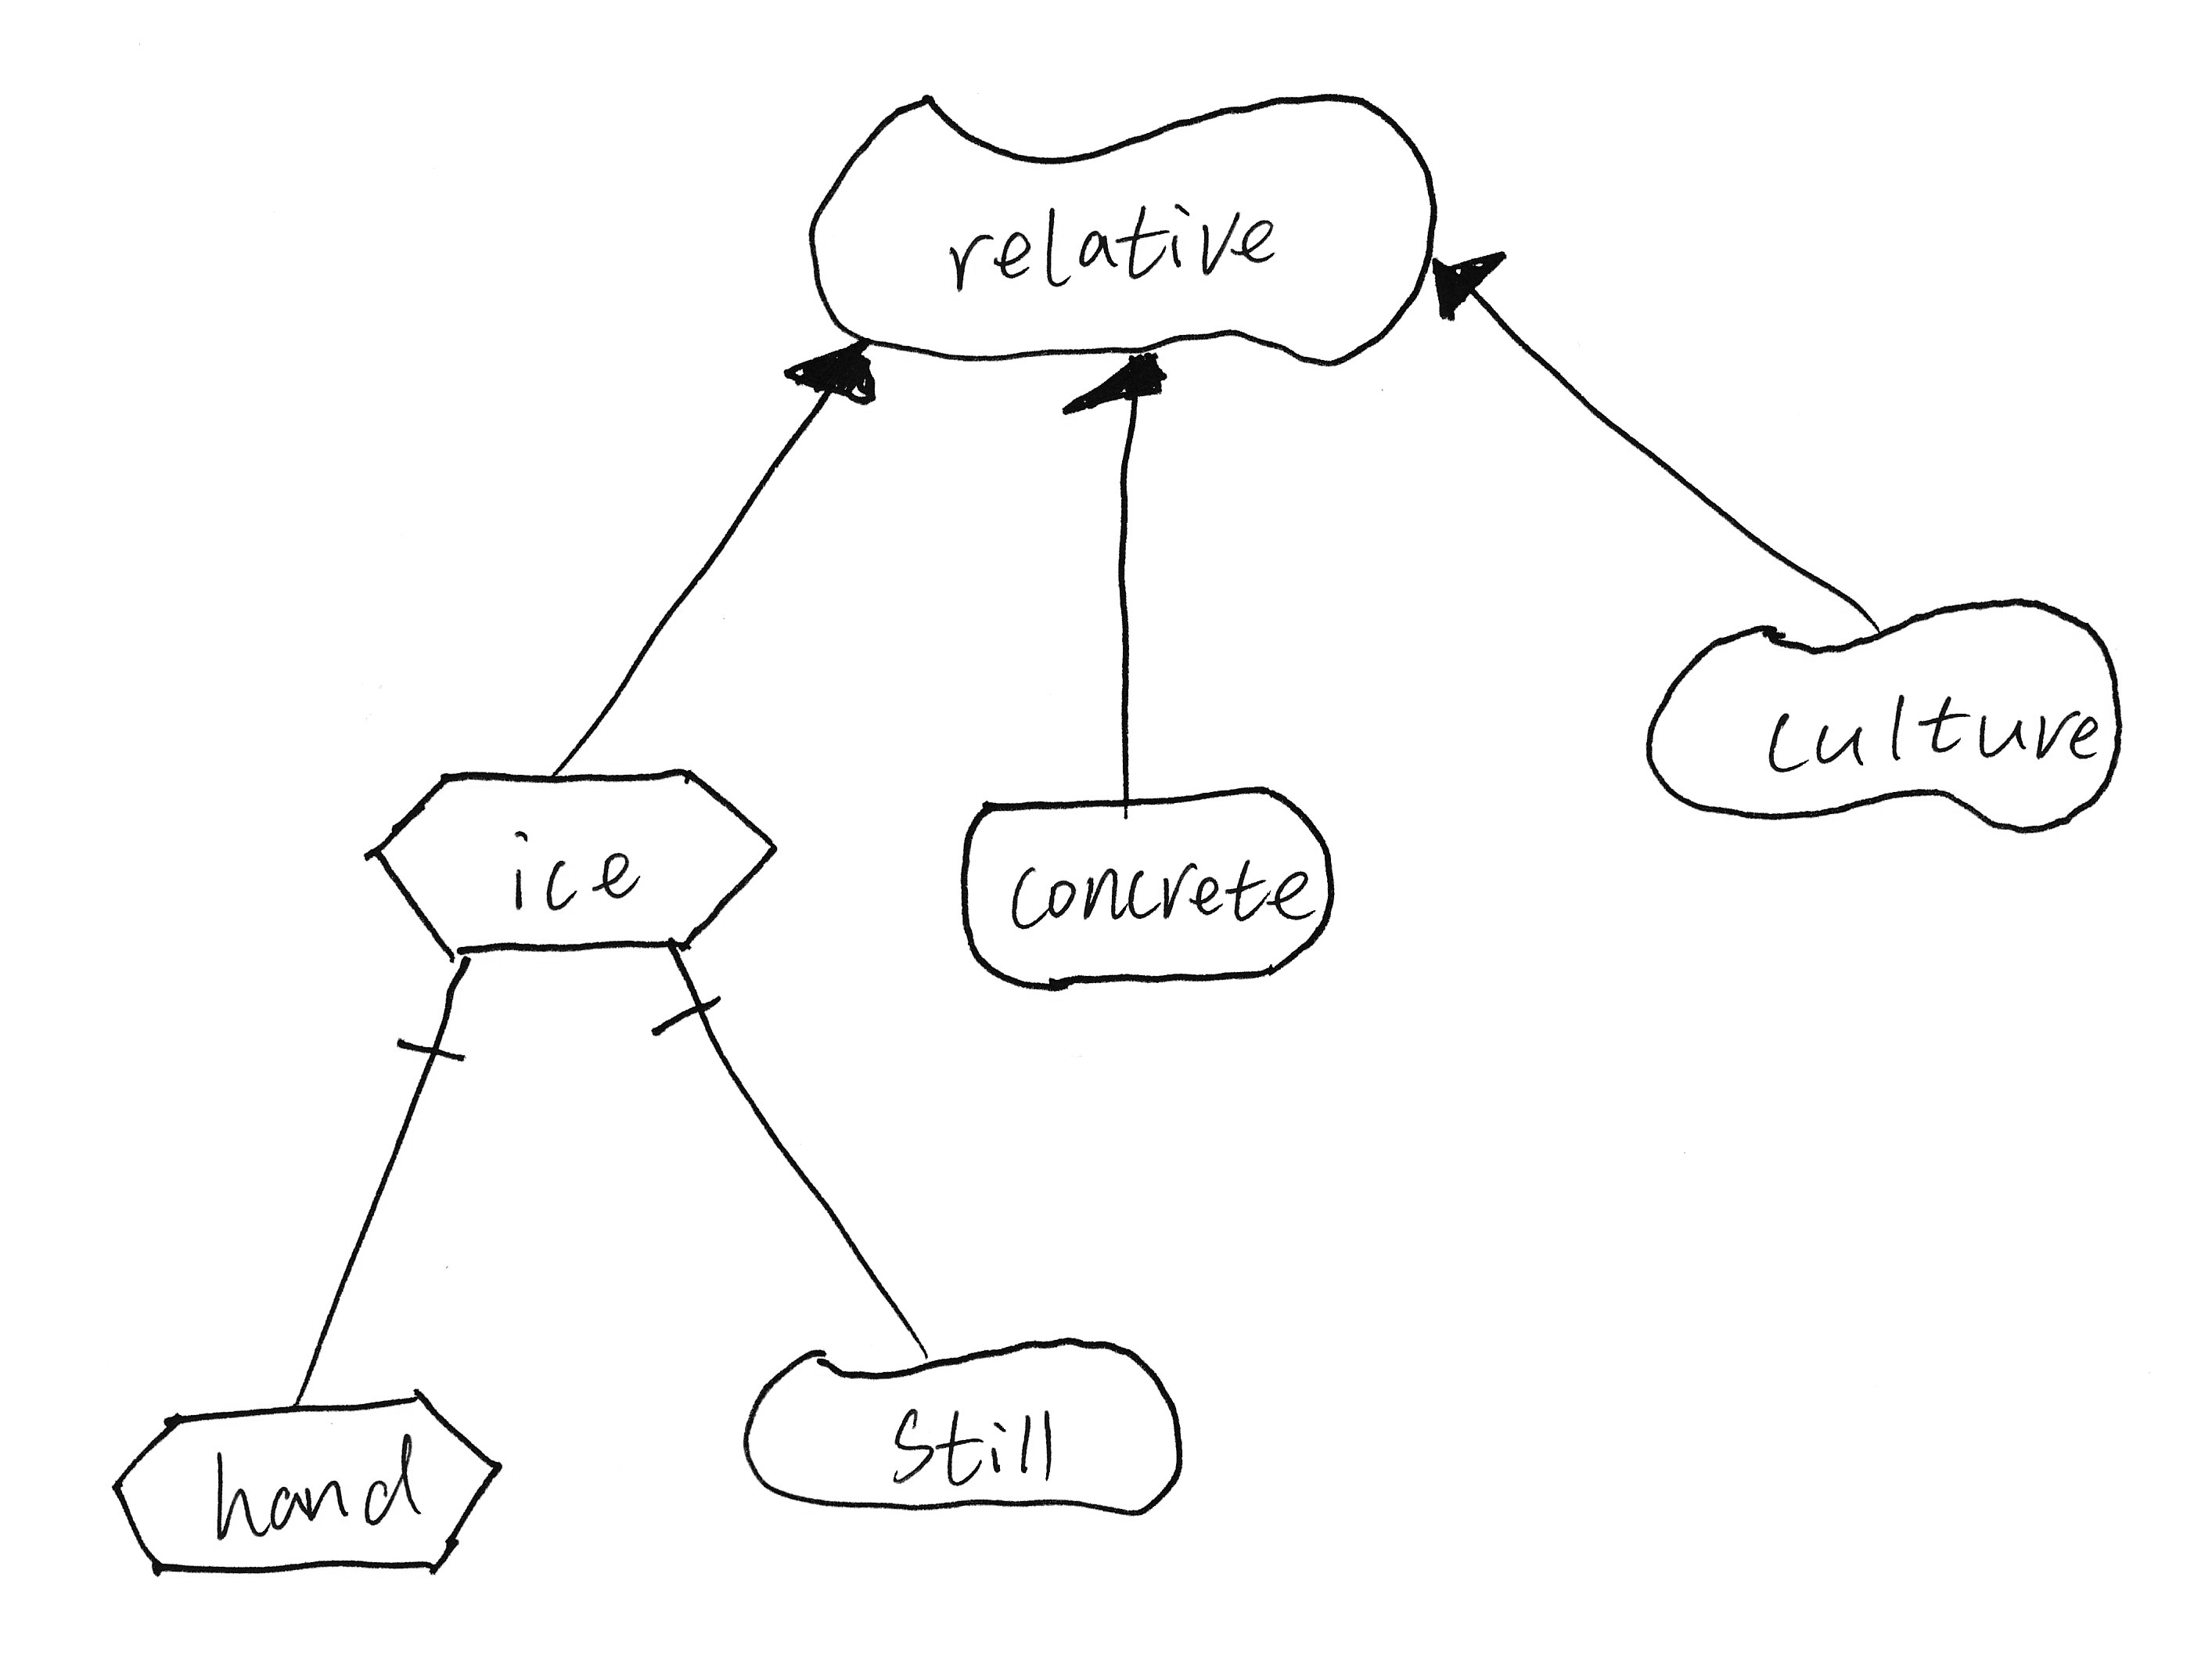and: (375, 980, 490, 1096), (622, 975, 756, 1059)
goal: (938, 768, 1350, 1008)
or: (1417, 229, 1532, 345), (772, 312, 895, 419), (1054, 337, 1190, 427)
quality: (788, 63, 1456, 382), (1630, 578, 2149, 853), (716, 1310, 1206, 1537)
task: (86, 1364, 516, 1604), (345, 749, 800, 975)
